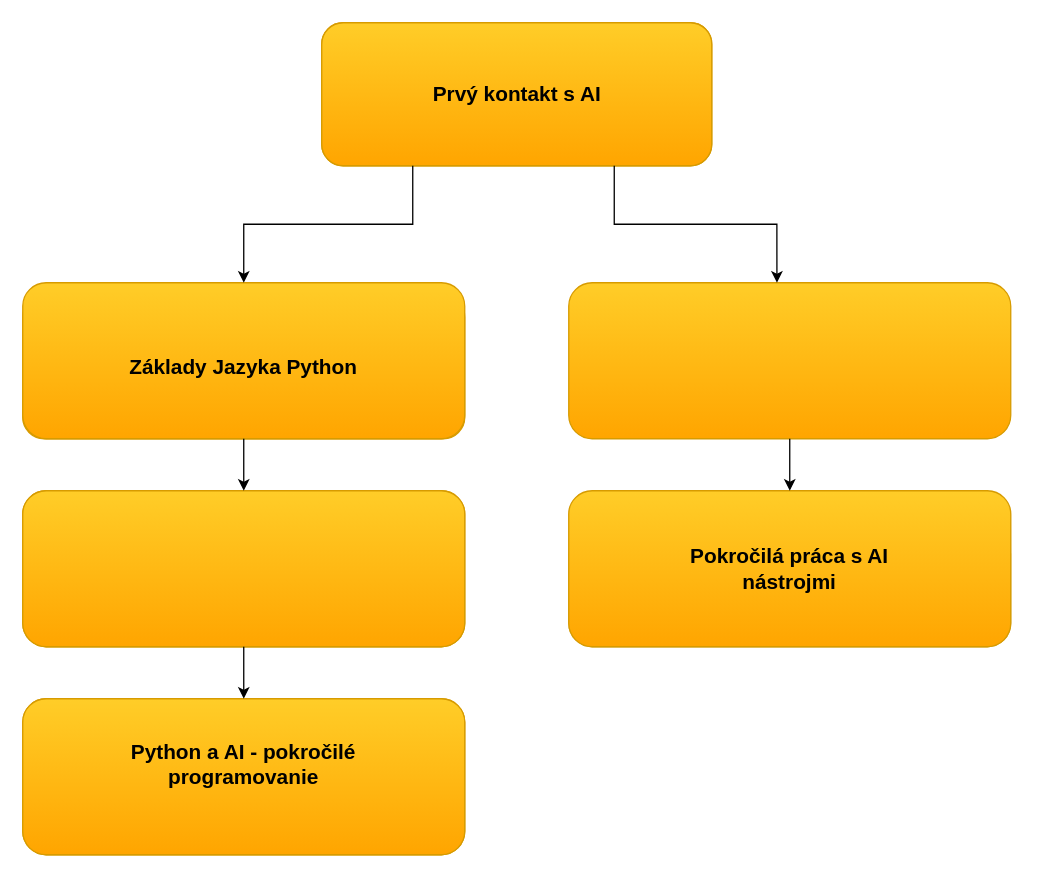
The diagram is 1060 pixels wide and 877 high, and some of its shapes have lost their labels. The centre of each missing label's shape, as x and y in pixels:
Python a AI - základy programovania: [243,568]
Úvod do Umelej Inteligencie - Praktické aplikácie: [789,360]
